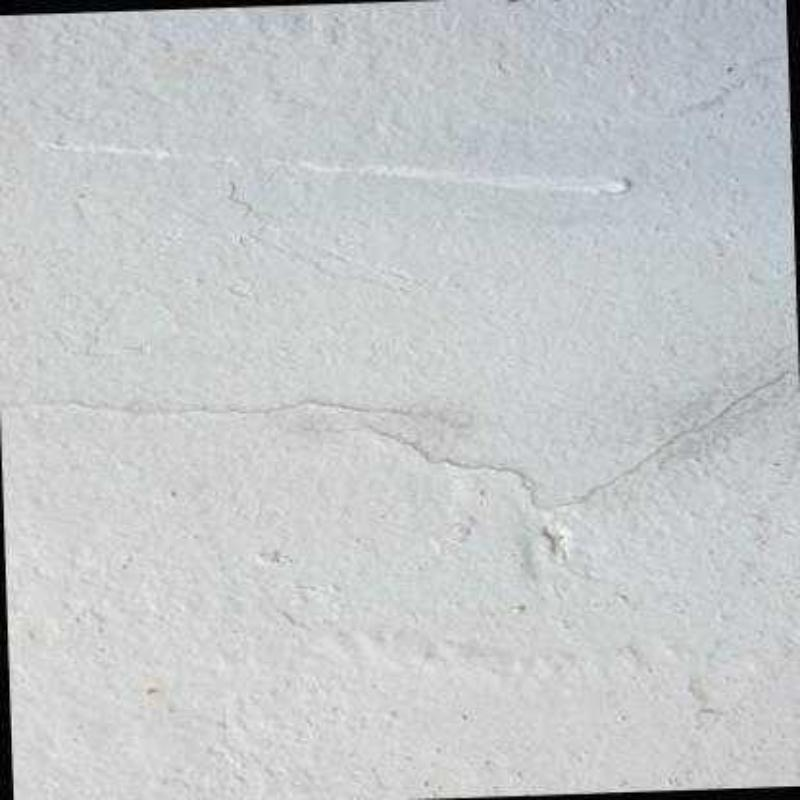pothole: (301, 363, 799, 516), (0, 396, 426, 417)
